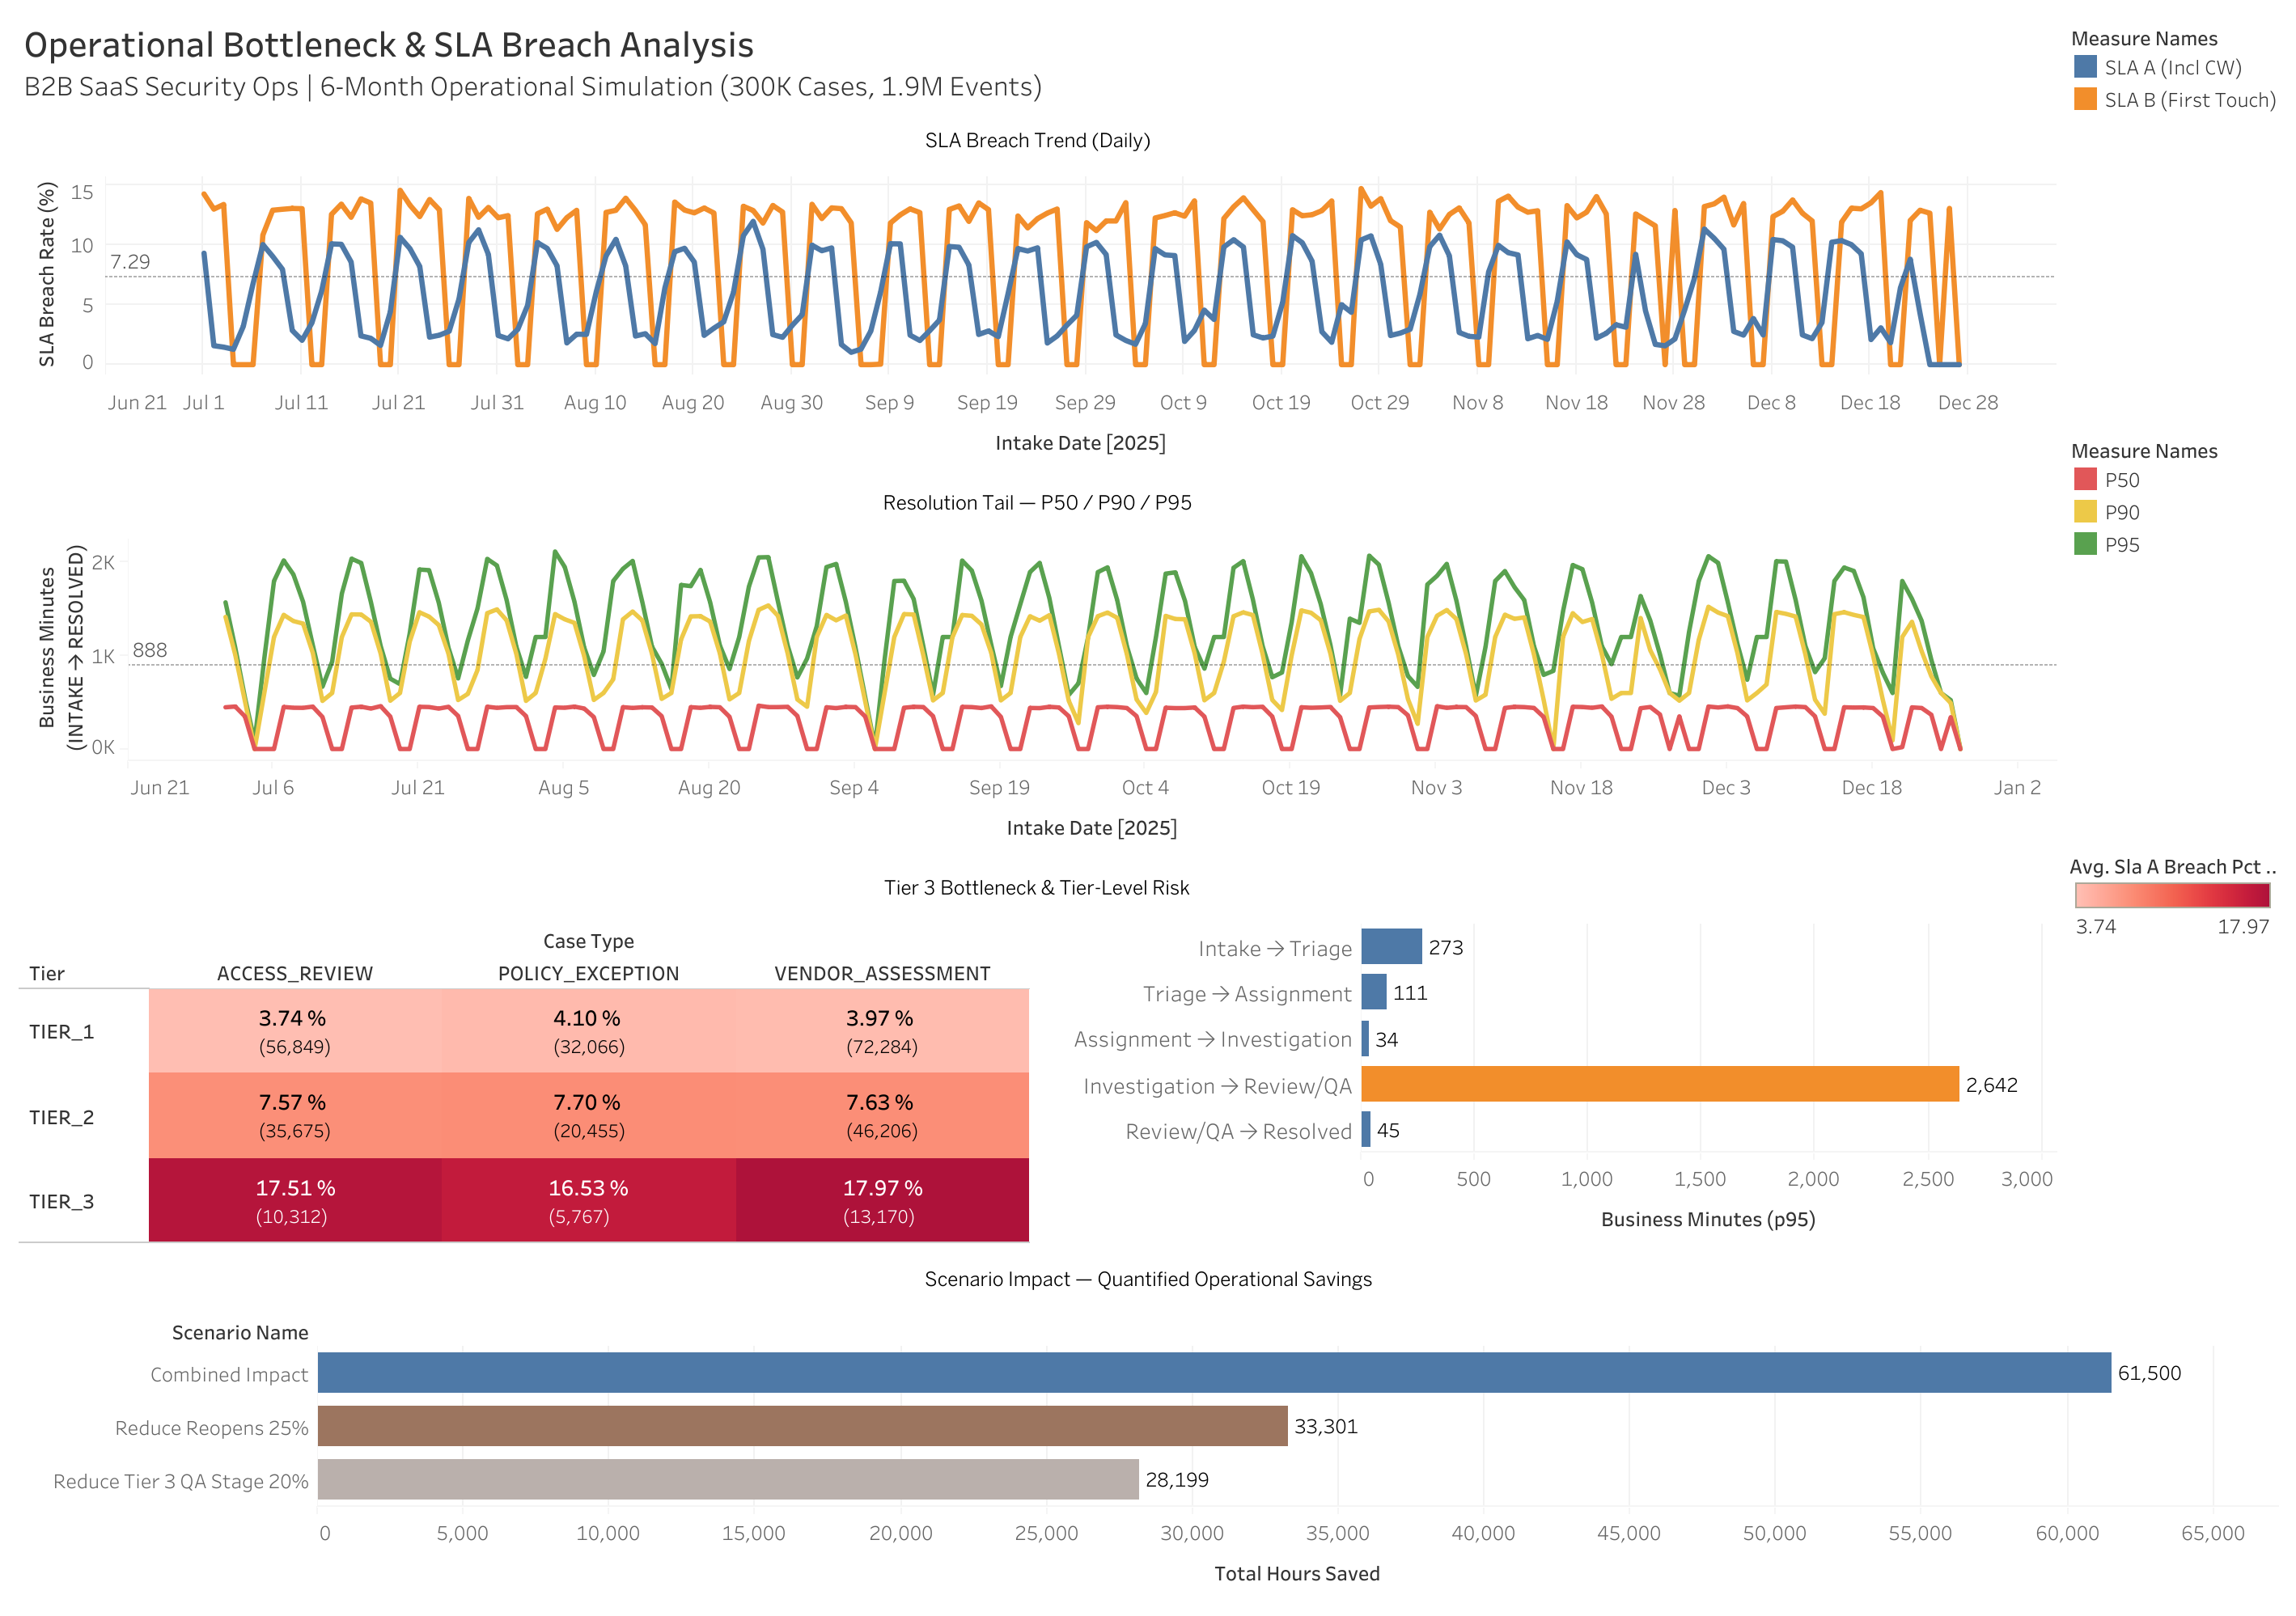

The page's visual inventory and layout, read from the dashboard file:
{"tool":"tableau","page":{"name":"Operational Bottleneck & SLA Breach Analysis","canvas":[1000,1000],"units":"permille","ordinal":0},"visuals":[{"type":"title","box":[6.4,8,877,60]},{"type":"legend","title":"SLA Breach Trend - Daily (6-Month View)","param":"[federated.14qlk4x0myce1d1h93k8g15rb1td].[:Measure Names]","box":[883.4,8,110.1,255]},{"type":"text","box":[6.4,69.2,877,35.9]},{"type":"worksheet","title":"SLA Breach Trend - Daily (6-Month View)","mark":"Line","cols":["intake_date"],"box":[6.4,105.1,877,187.9]},{"type":"legend","title":"SLA A Resolution Tail (Business Minutes)","param":"[federated.14qlk4x0myce1d1h93k8g15rb1td].[:Measure Names]","box":[883.4,263,110.1,255]},{"type":"text","box":[6.4,292.9,877,35.8]},{"type":"worksheet","title":"SLA A Resolution Tail (Business Minutes)","mark":"Line","cols":["intake_date"],"box":[6.4,328.8,877,202.4]},{"type":"legend","title":"SLA A Breach Rate by Tier and Case Type","param":"[federated.1hy8h89058e4cz158xt911sxu3rj].[avg:sla_a_breach_pct_including_cw:qk]","box":[883.4,518,110.1,255]},{"type":"text","box":[6.4,531.2,877,35.6]},{"type":"worksheet","title":"SLA A Breach Rate by Tier and Case Type","mark":"Square","rows":["tier"],"cols":["case_type"],"box":[6.4,566.8,438.4,205.9]},{"type":"worksheet","title":"Tier 3 Bottleneck Stage (p95 Business Minutes)","mark":"Bar","box":[444.8,566.8,438.6,205.9]},{"type":"text","box":[6.4,772.7,987.1,35.6]},{"type":"worksheet","title":"Scenario Impact - Quantified Improvement","mark":"Automatic","rows":["scenario_name"],"cols":["total_hours_saved"],"box":[6.4,808.3,987.1,183.7]}]}

Visuals, with their boxes on the dashboard's canvas, which has no fixed pixel size, in thousandths of its width and height (x1, y1, x2, y2). These are canvas units, not pixel positions in the 2296x1616 screenshot, which may show the page scaled, cropped or inside an application window:
title: <bbox>6, 8, 883, 68</bbox>
"SLA Breach Trend - Daily (6-Month View)" legend: <bbox>883, 8, 994, 263</bbox>
text: <bbox>6, 69, 883, 105</bbox>
"SLA Breach Trend - Daily (6-Month View)" worksheet (Line marks): <bbox>6, 105, 883, 293</bbox>
"SLA A Resolution Tail (Business Minutes)" legend: <bbox>883, 263, 994, 518</bbox>
text: <bbox>6, 293, 883, 329</bbox>
"SLA A Resolution Tail (Business Minutes)" worksheet (Line marks): <bbox>6, 329, 883, 531</bbox>
"SLA A Breach Rate by Tier and Case Type" legend: <bbox>883, 518, 994, 773</bbox>
text: <bbox>6, 531, 883, 567</bbox>
"SLA A Breach Rate by Tier and Case Type" worksheet (Square marks): <bbox>6, 567, 445, 773</bbox>
"Tier 3 Bottleneck Stage (p95 Business Minutes)" worksheet (Bar marks): <bbox>445, 567, 883, 773</bbox>
text: <bbox>6, 773, 994, 808</bbox>
"Scenario Impact - Quantified Improvement" worksheet: <bbox>6, 808, 994, 992</bbox>
